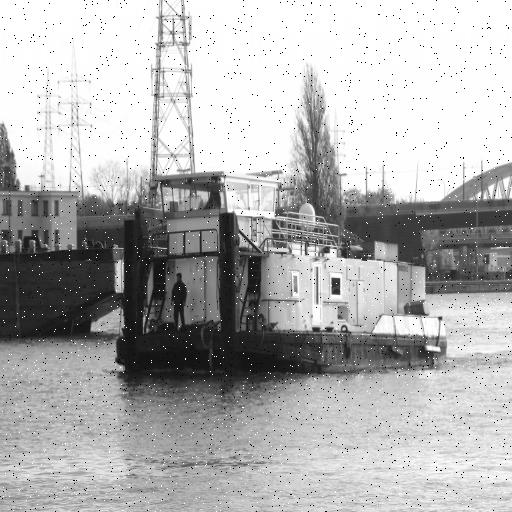tugboat: (112, 166, 450, 389)
